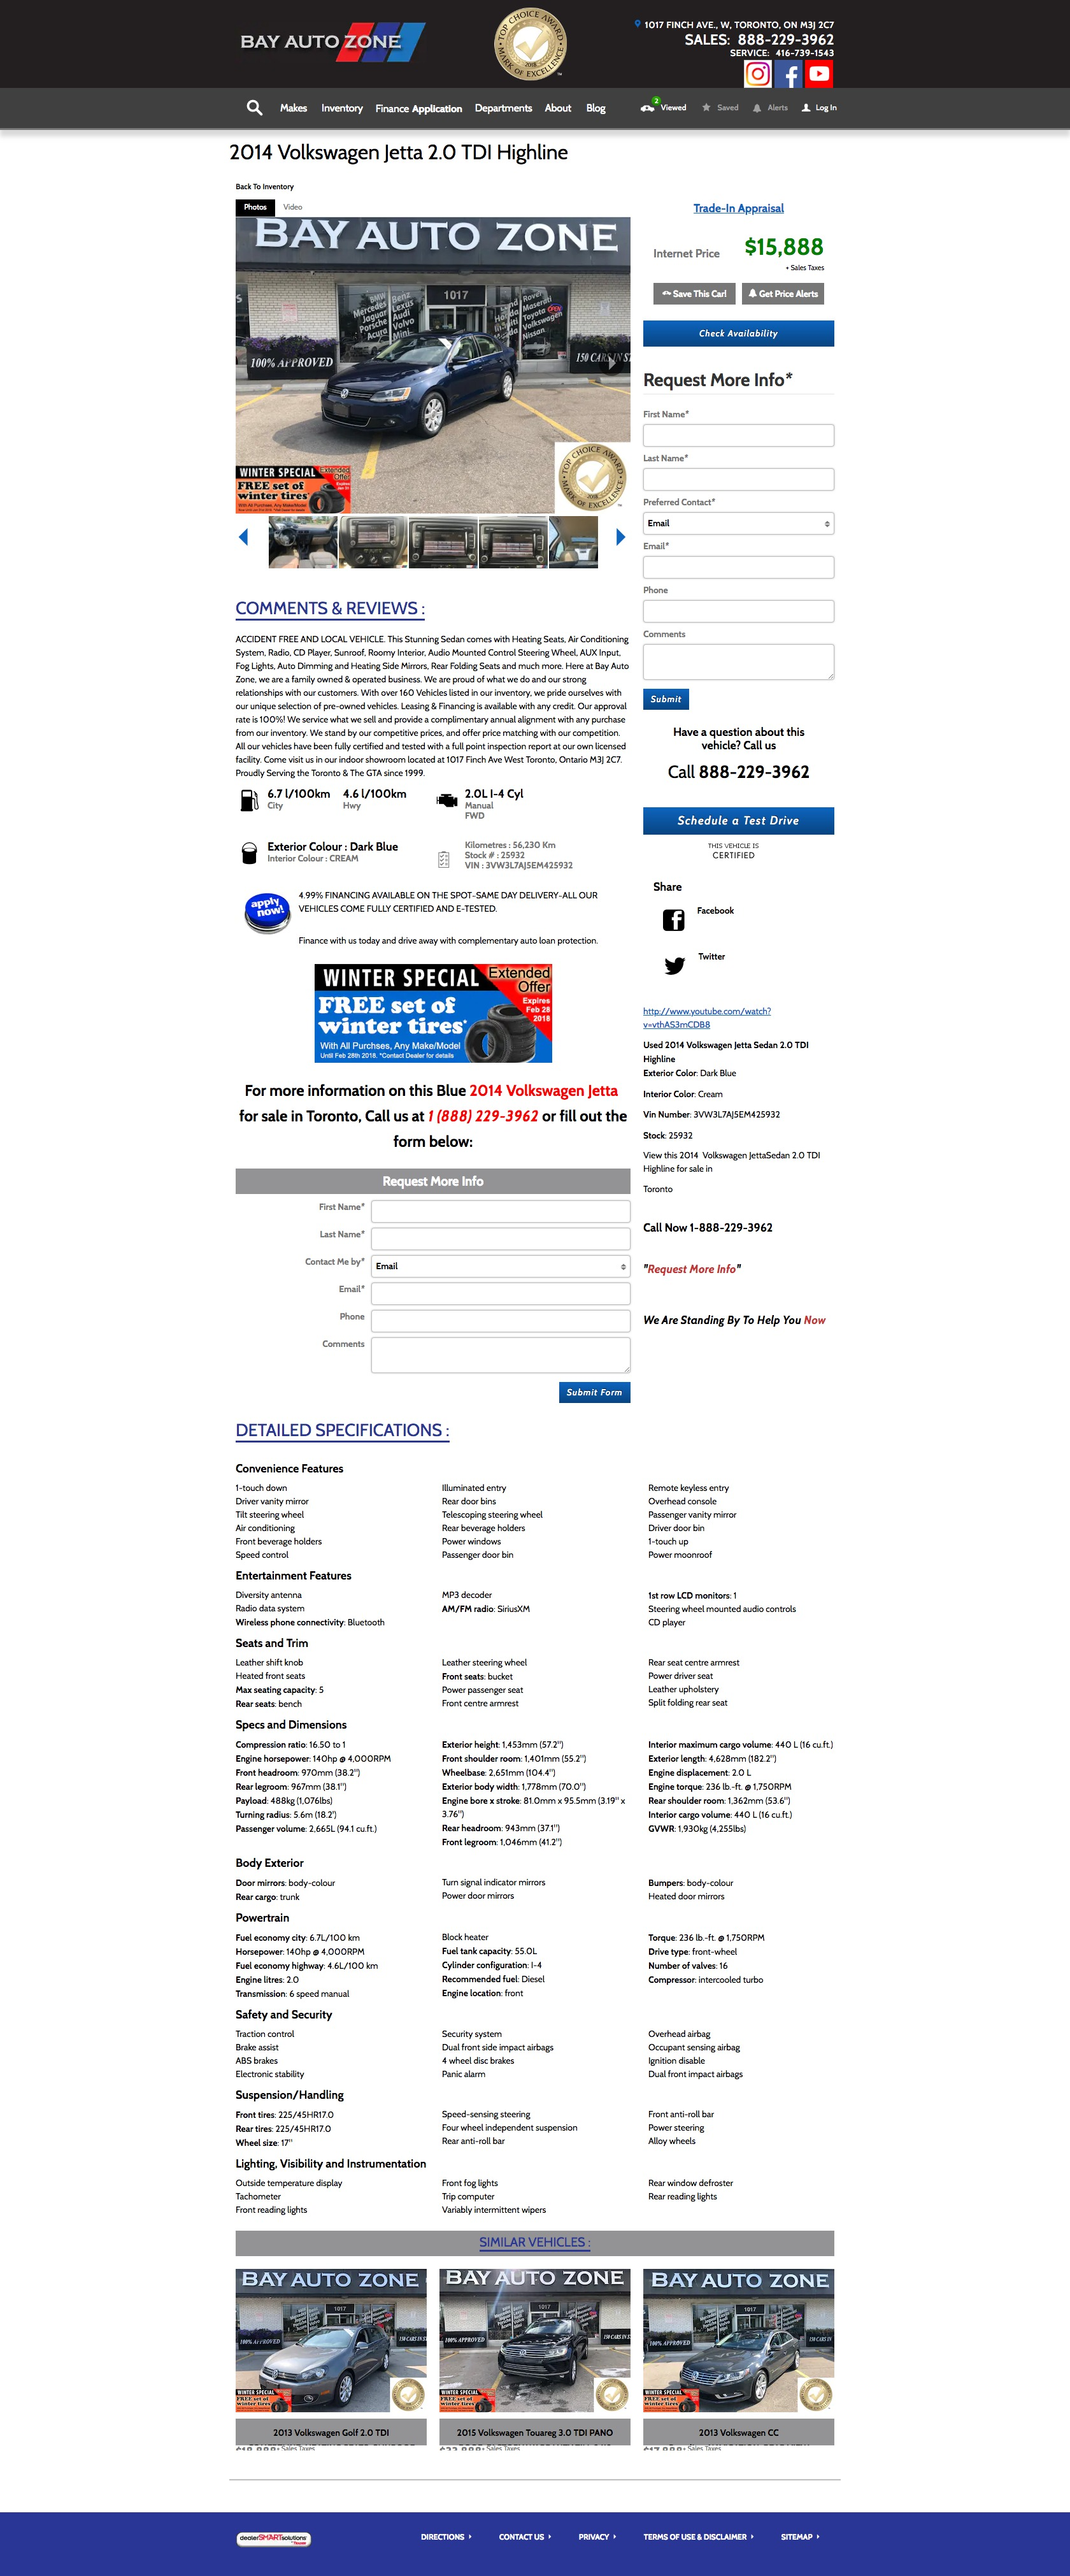car: (615, 527, 627, 547)
